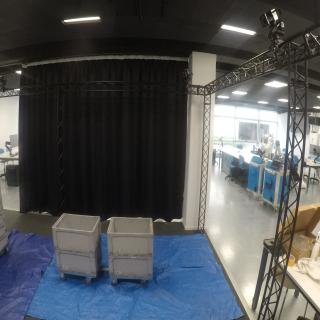Box4G: (52, 213, 104, 255), (107, 218, 156, 259), (56, 245, 104, 279), (108, 255, 156, 283)
